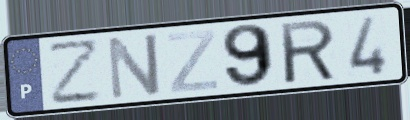4: (345, 14, 390, 78)
9: (221, 21, 278, 91)
N: (105, 30, 164, 103)
R: (277, 17, 339, 87)
Z: (46, 35, 104, 107), (164, 27, 220, 95)
